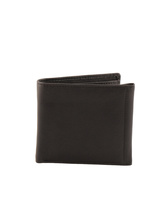other: (32, 72, 134, 170)
